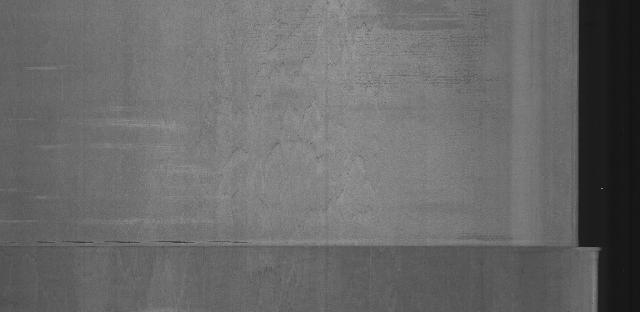welding_line: (4, 232, 613, 260)
